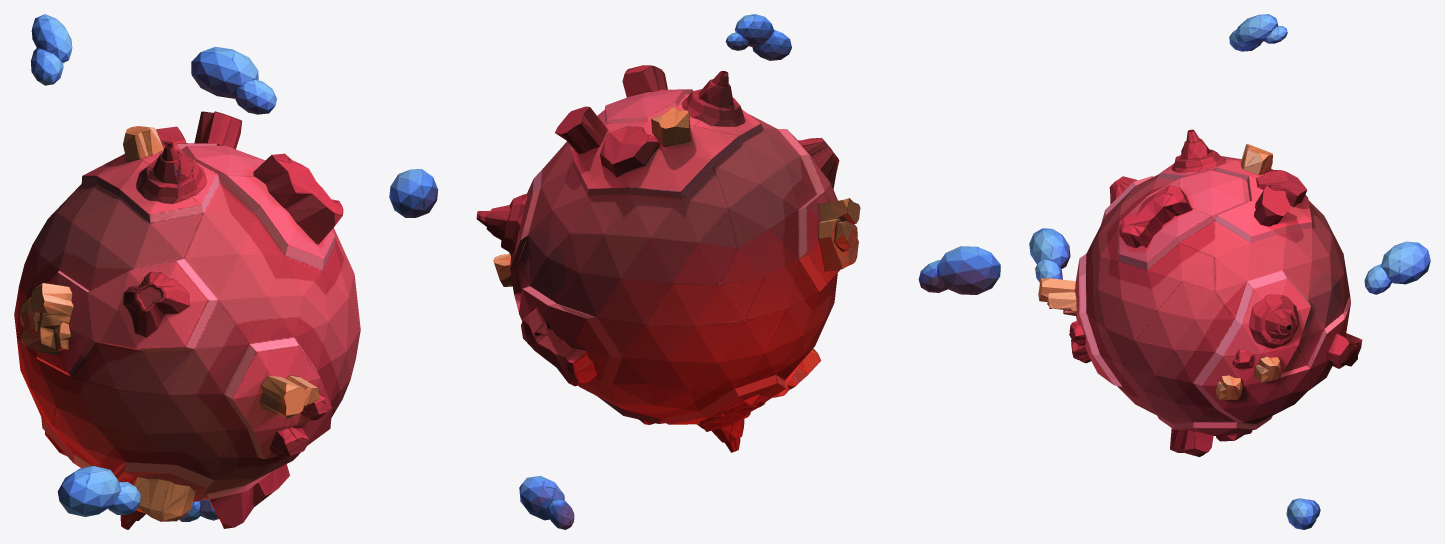
File: marte.obj
The picture shows the model from 3 angles, left to right: view 1: azimuth 30°, elevation 25°; view 2: azimuth 150°, elevation 25°; view 3: azimuth 270°, elevation 25°; orthographic projection. The views are drawn at different scales.
Parts seen in each view (by area): view 1: nubes2; view 2: nubes2; view 3: nubes2.
Boxes of the visible parts, bbox=[...] form: nubes2: bbox=[14, 14, 360, 529]; nubes2: bbox=[389, 14, 1000, 529]; nubes2: bbox=[1029, 14, 1430, 529].
Size of the model in its own units: 2.82 by 3.6 by 2.97.
1 material, 1 textured.
